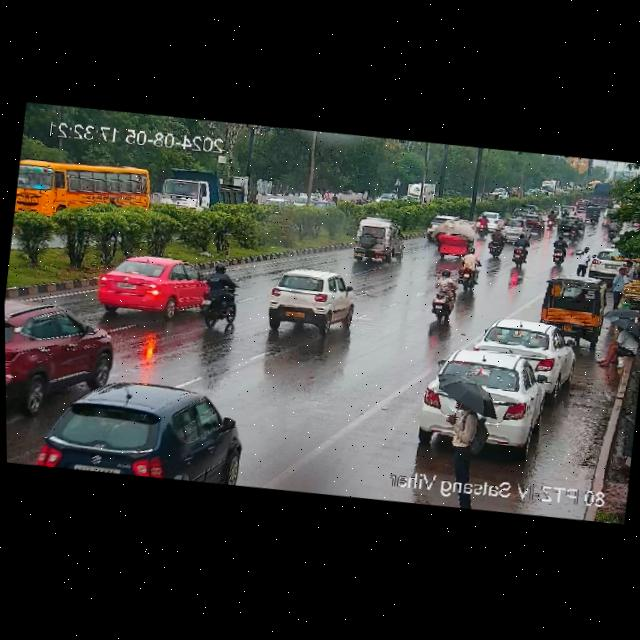bus: (13, 151, 150, 230)
car: (36, 371, 247, 490), (413, 344, 542, 451), (4, 299, 113, 400), (469, 317, 581, 395), (94, 244, 209, 314), (267, 270, 353, 338), (536, 273, 608, 334), (350, 214, 410, 262), (433, 216, 478, 260), (589, 248, 624, 279), (498, 217, 531, 242)
motorcycle: (196, 263, 239, 330), (427, 271, 457, 326), (459, 249, 479, 289), (510, 233, 531, 269), (486, 230, 506, 259), (551, 236, 569, 264)
person: (451, 397, 483, 474), (600, 322, 640, 378), (606, 264, 628, 308), (575, 243, 592, 276)
truck: (154, 171, 249, 222), (586, 179, 621, 211)
